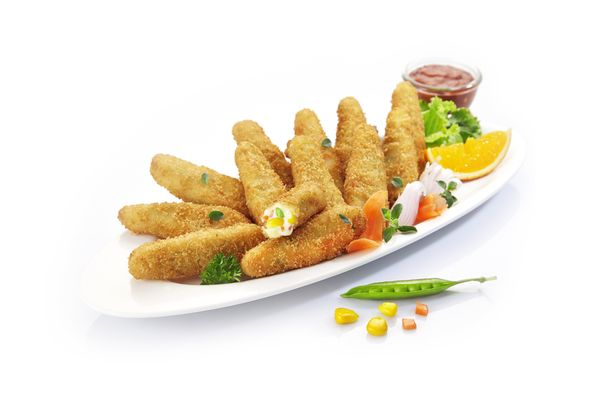curry: (199, 252, 243, 285)
sushi: (403, 62, 483, 109)
